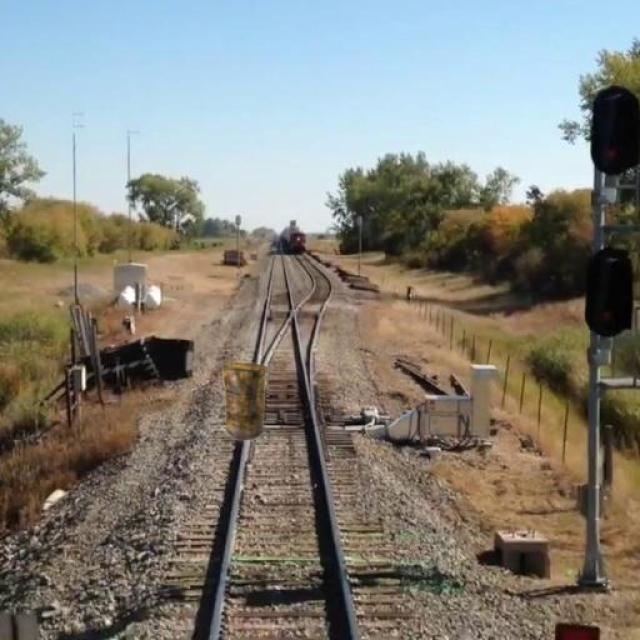Other_objects: (217, 360, 274, 449)
